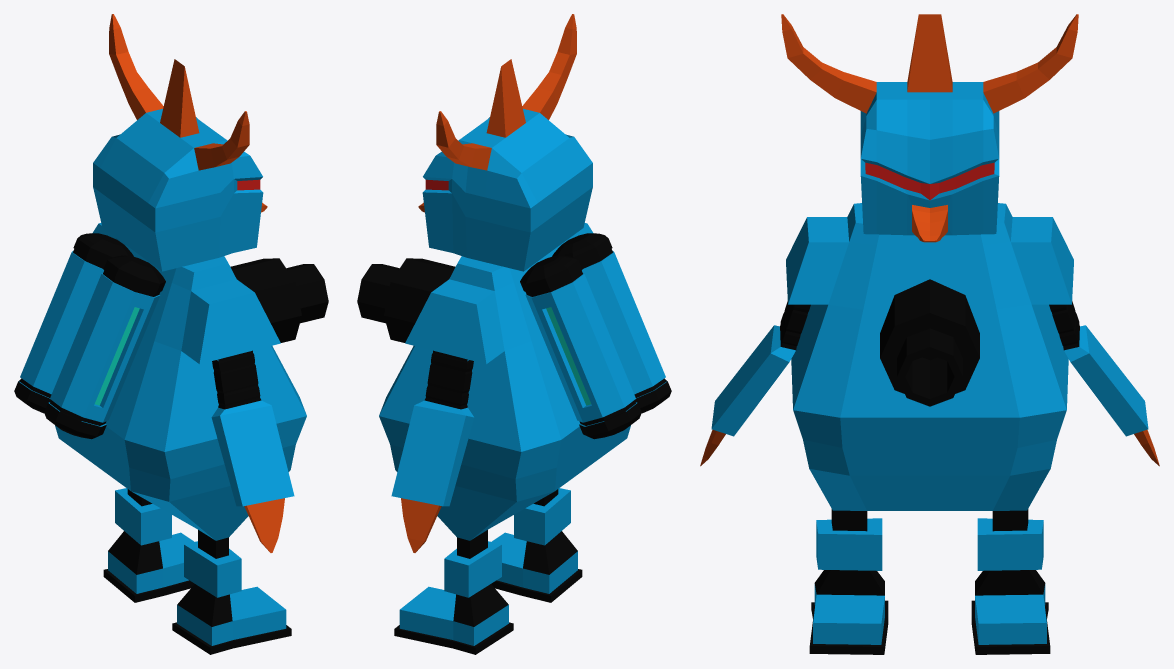
Rendered from King_Robo_Penguin.fbx.
3 renders of one model, left to right at view 1: azimuth 30°, elevation 25°; view 2: azimuth 150°, elevation 25°; view 3: azimuth 270°, elevation 25°, orthographic. The views are drawn at different scales.
Visible parts, largest first — view 1: King Penguin; view 2: King Penguin; view 3: King Penguin.
Boxes of the visible parts, box(x1,y1,x2,y2) form: King Penguin: box(14, 14, 328, 654); King Penguin: box(357, 14, 671, 654); King Penguin: box(700, 14, 1159, 654).
Bounding box in the file's own units: 258 × 484 × 332.
